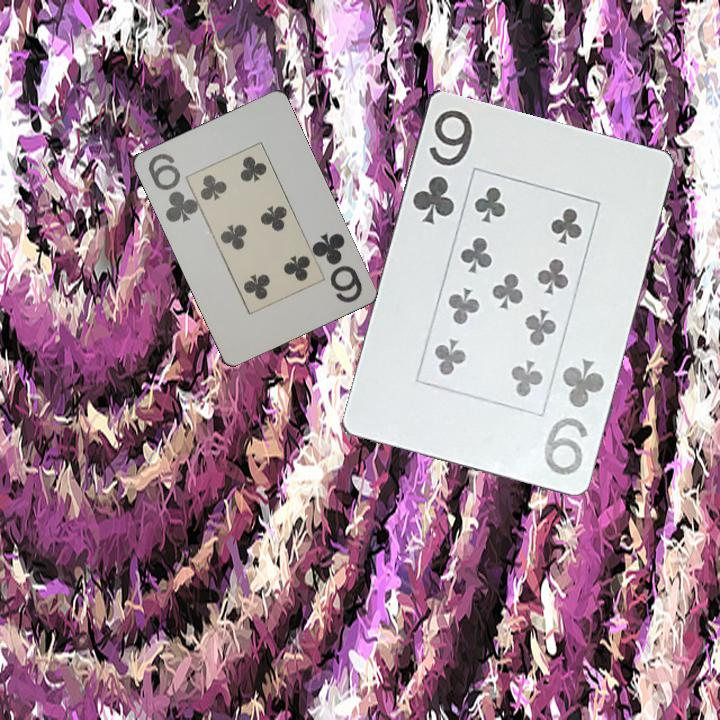6c: (309, 229, 365, 306), (144, 149, 199, 225)
9c: (539, 354, 607, 478), (408, 105, 475, 228)
